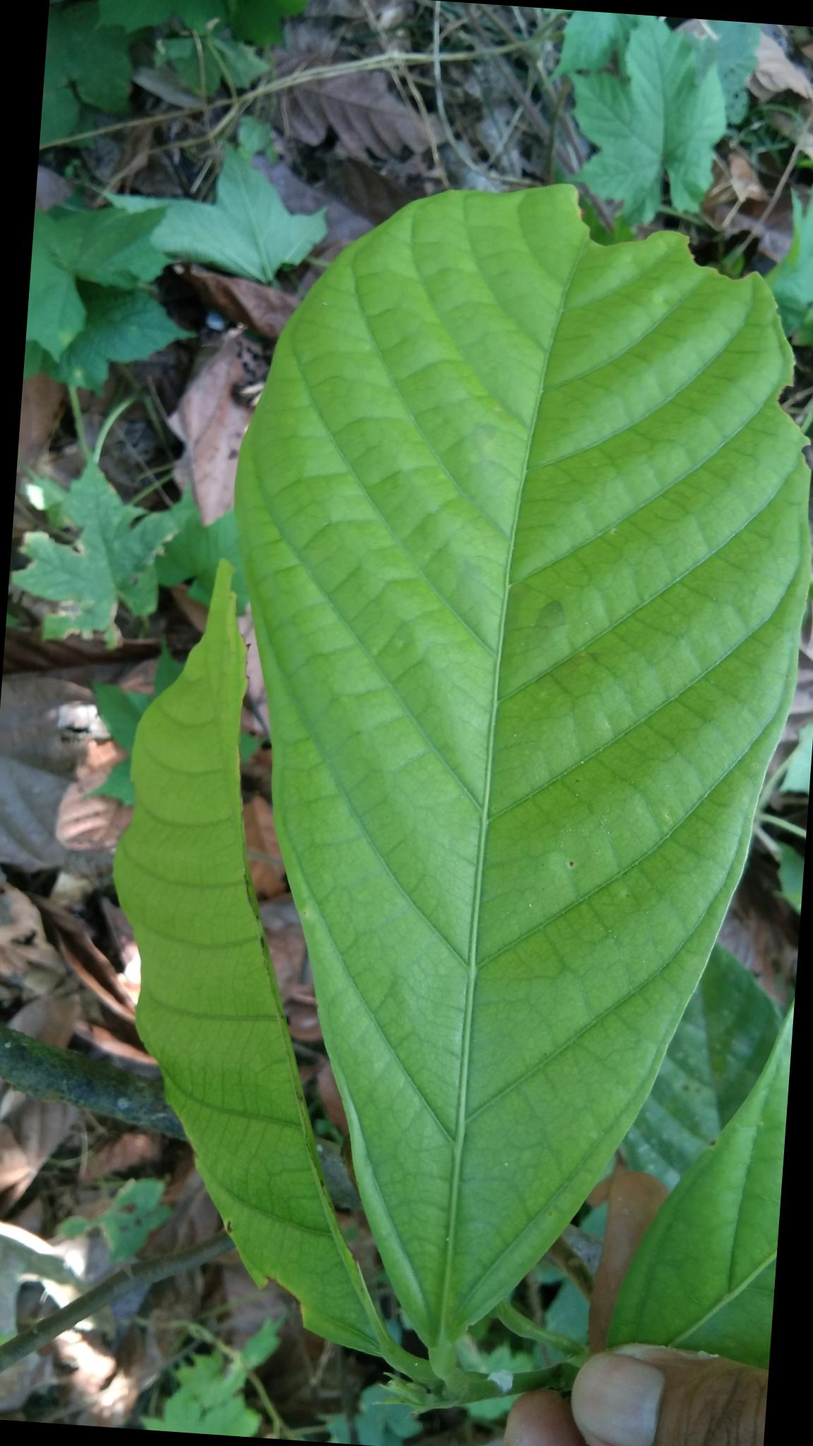Fosforo: (198, 143, 813, 1352)
